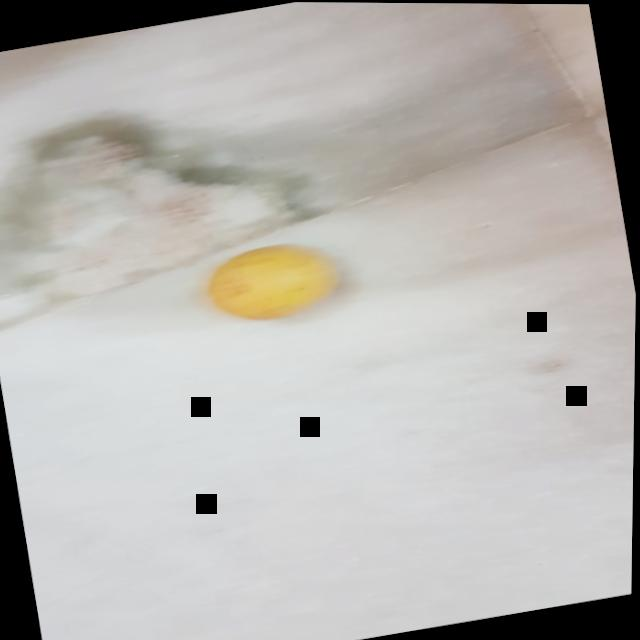lemon: (183, 221, 363, 349)
